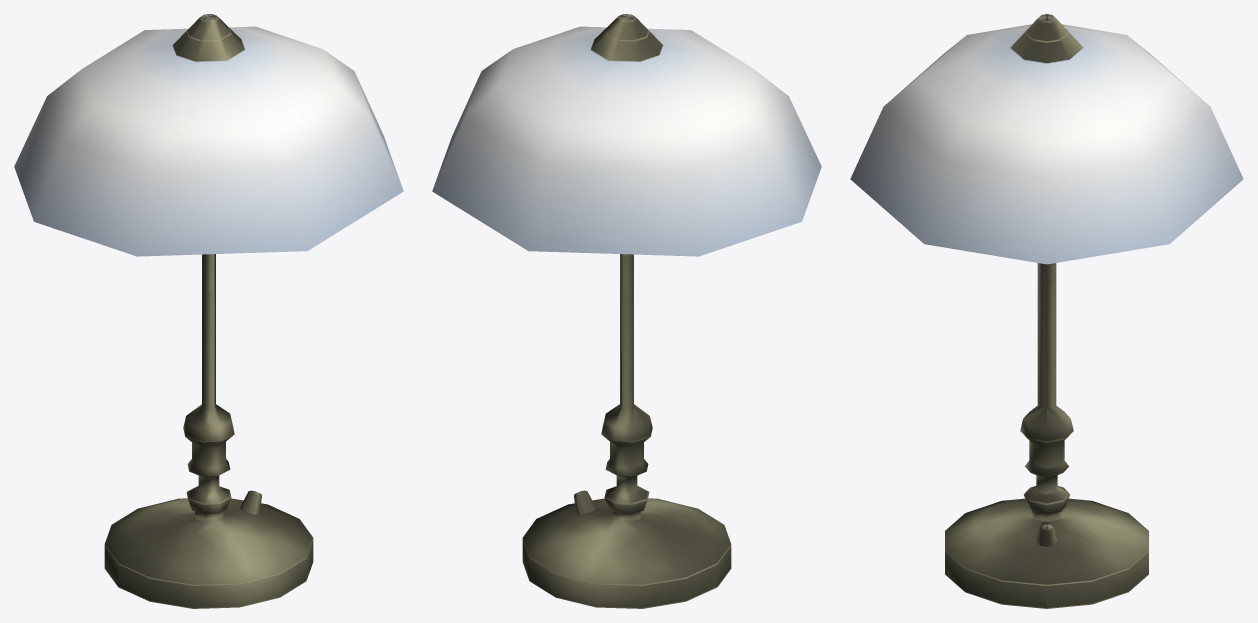
File: TuShuGuan_01_taideng_01.FBX
The picture shows the model from 3 angles, left to right: view 1: azimuth 30°, elevation 25°; view 2: azimuth 150°, elevation 25°; view 3: azimuth 270°, elevation 25°; orthographic projection.
Parts seen in each view (by area): view 1: TuShuGuan_01_taideng_01; view 2: TuShuGuan_01_taideng_01; view 3: TuShuGuan_01_taideng_01.
Boxes of the visible parts, x1,y1,x2,y2 form: TuShuGuan_01_taideng_01: [14, 14, 403, 608]; TuShuGuan_01_taideng_01: [432, 14, 821, 608]; TuShuGuan_01_taideng_01: [850, 14, 1243, 608].
Bounding box in the file's own units: 122 × 183 × 119.
